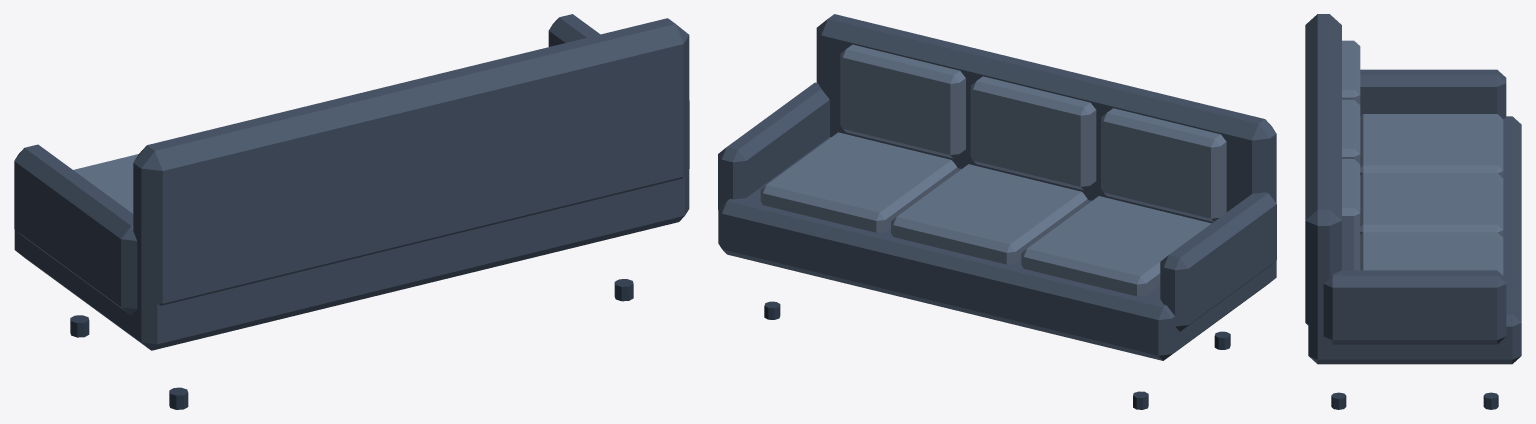
File: couch.glb
3 views of the same model, side by side, from view 1: azimuth 30°, elevation 25°; view 2: azimuth 150°, elevation 25°; view 3: azimuth 270°, elevation 25° (orthographic). The views are drawn at different scales.
Visible parts, largest first — view 1: Couch; view 2: Couch; view 3: Couch.
Boxes of the visible parts, x1,y1,x2,y2 form: Couch: (14,14,689,409); Couch: (718,14,1276,409); Couch: (1305,14,1521,409).
Size of the model in its own units: 1.66 by 0.765 by 0.71.
